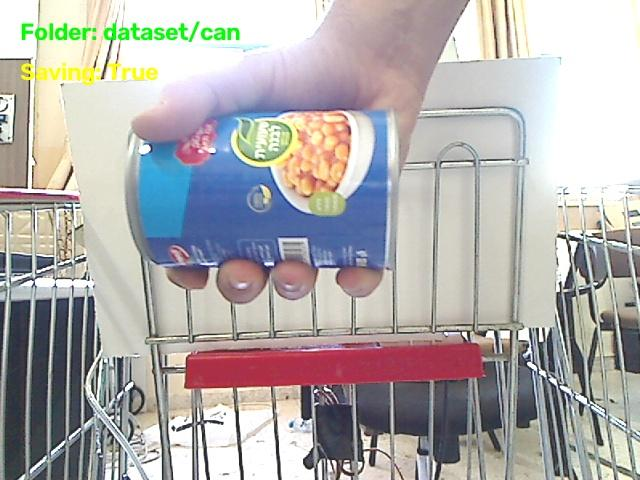can: (126, 110, 399, 268)
